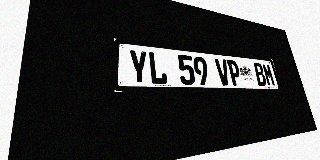5: (177, 54, 196, 85)
9: (192, 56, 210, 85)
B: (253, 62, 267, 86)
L: (148, 51, 168, 85)
M: (262, 63, 276, 86)
P: (226, 60, 242, 86)
V: (214, 58, 231, 86)
Y: (128, 49, 149, 84)
